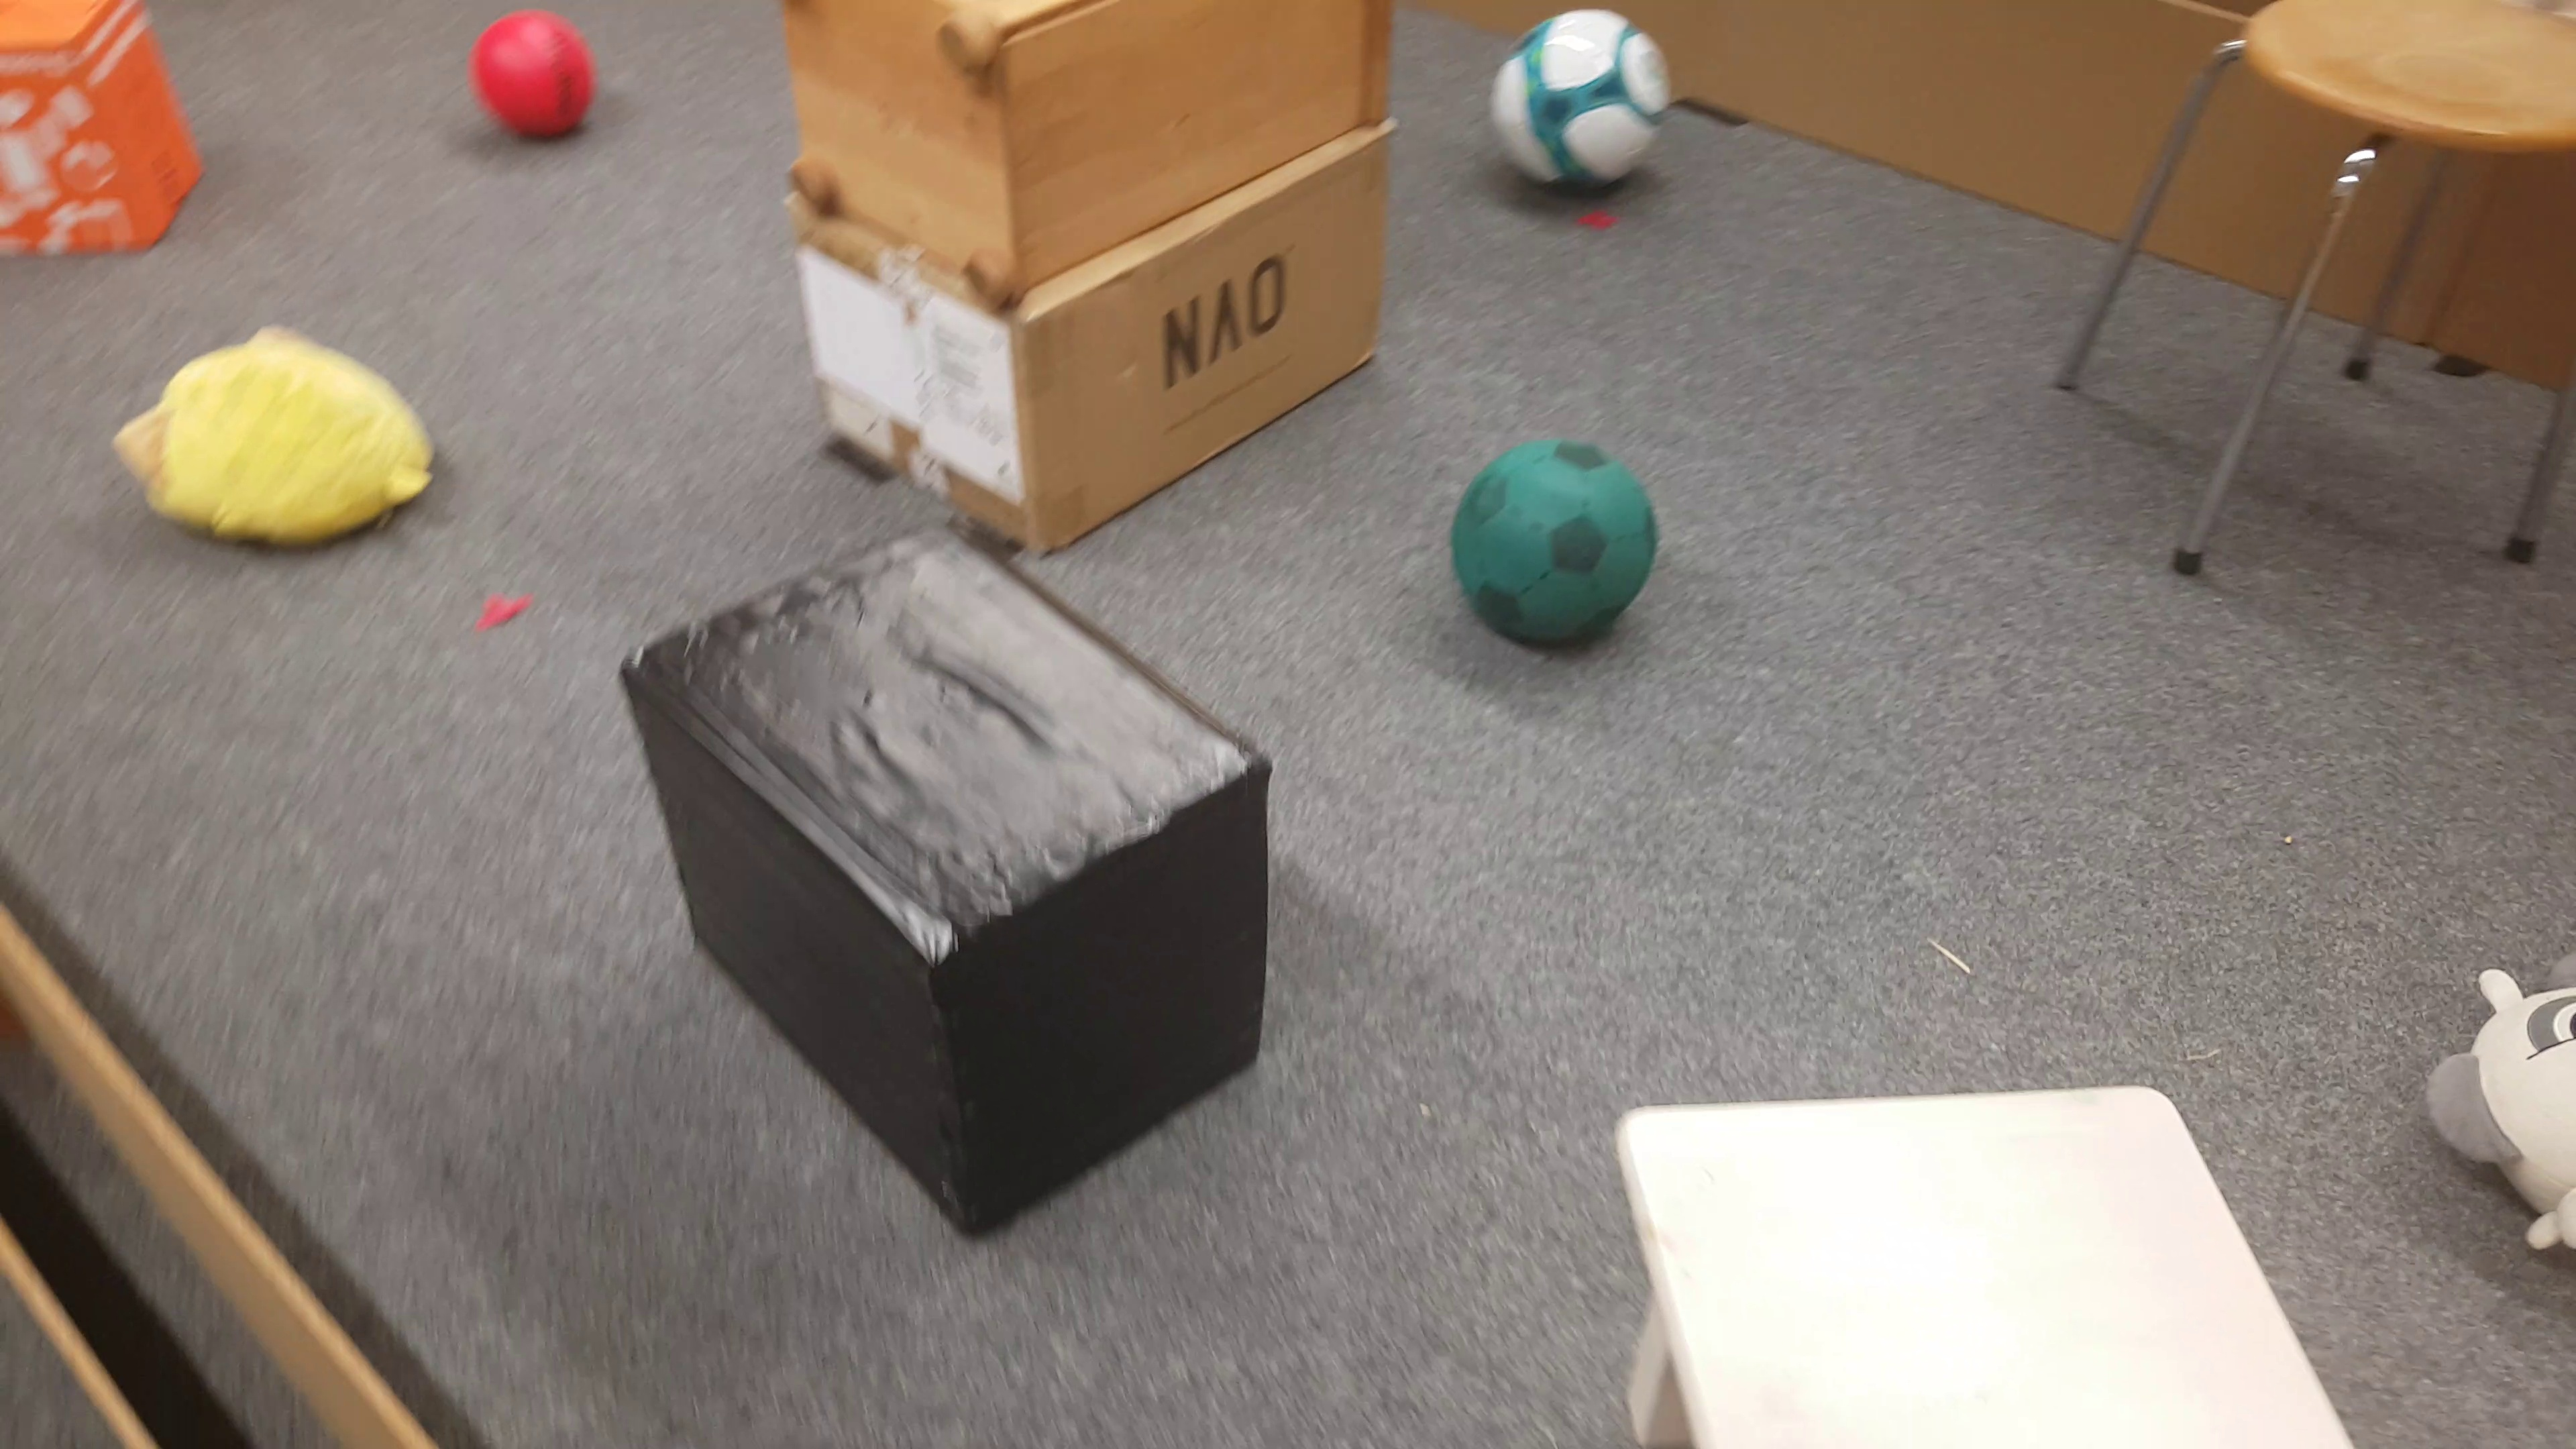grasp: (124, 326, 439, 556), (2415, 932, 2576, 1263)
kick: (1460, 433, 1654, 660), (1491, 5, 1665, 203), (487, 4, 586, 142)
push: (626, 524, 1284, 1253), (0, 16, 211, 271)
